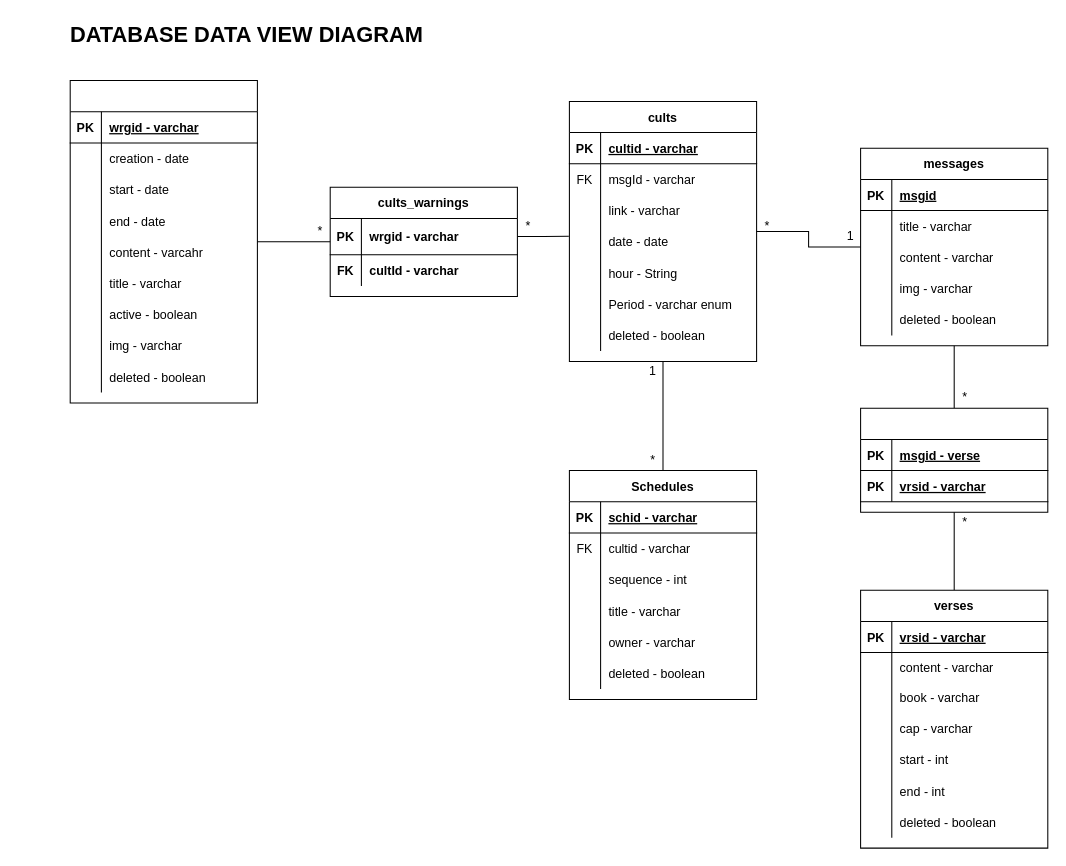
The diagram is 1066 pixels wide and 866 high, and some of its shapes have lost their labels. The box of each missing label's shape, as (x1, y1, x2, y2) in pixels:
verses_messages: (860, 407, 1048, 512)
warnings: (69, 80, 257, 403)
